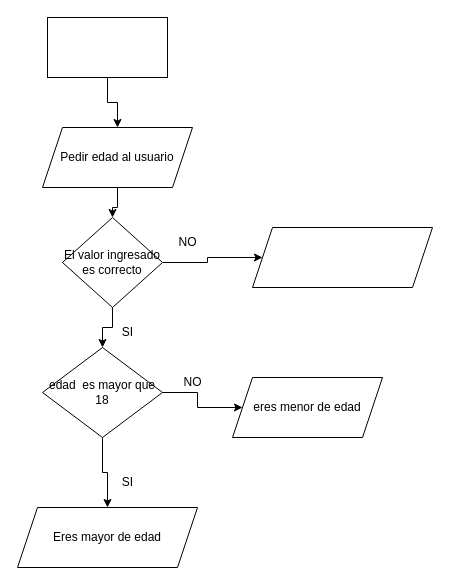
The diagram is 450 pixels wide and 585 high, and some of its shapes have lost their labels. Here are the shapes that lost their labels. From the top down, the centre of each, then its label:
At (x=107, y=47): "Determinar si el usuario es mayor de edad".
At (x=342, y=257): "Ingresa un numero correcto".
